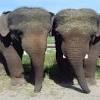elephant: (0, 7, 99, 91)
